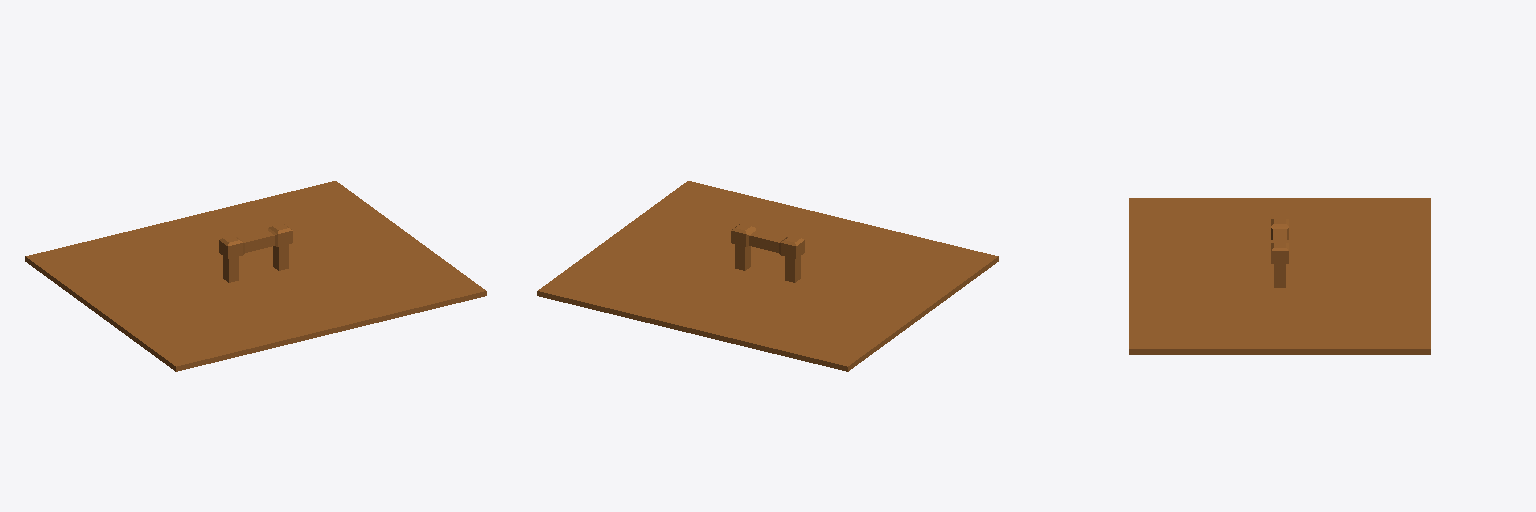
3 views of the same model, side by side, from view 1: azimuth 30°, elevation 25°; view 2: azimuth 150°, elevation 25°; view 3: azimuth 270°, elevation 25° (orthographic).
Visible parts, largest first — view 1: Suzanne.001_Suzanne.002; view 2: Suzanne.001_Suzanne.002; view 3: Suzanne.001_Suzanne.002.
Part boxes in pixels (left/top/right/bottom): Suzanne.001_Suzanne.002: left=25, top=181, right=486, bottom=371; Suzanne.001_Suzanne.002: left=537, top=181, right=998, bottom=371; Suzanne.001_Suzanne.002: left=1129, top=198, right=1430, bottom=354.
Size of the model in its own units: 61.9 by 8.73 by 52.